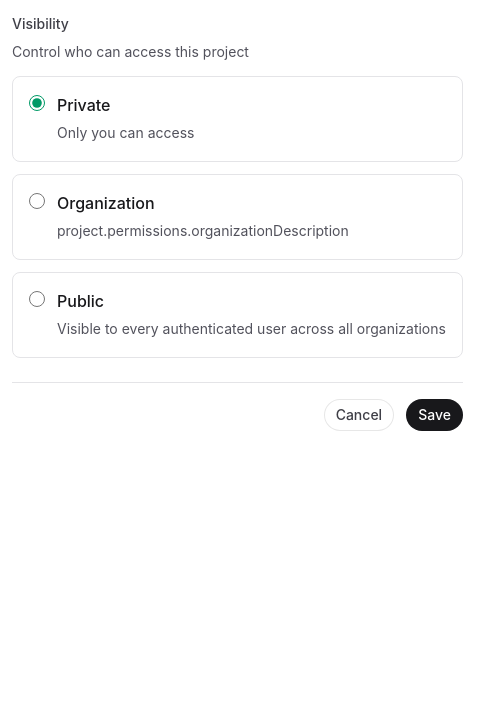
Test: ProjectPermissionsPanel › Cancel › resets visibility on cancel
The width and height of the screenshot is (480, 704).
Click the label with test id "public-option". click: (81, 301)
box: top-left (12, 272), bottom-right (463, 358)
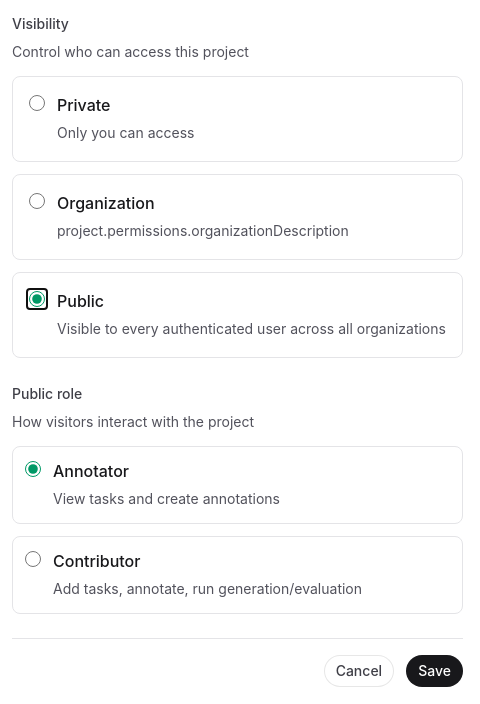
Click the button with test id "cancel-button". click: (359, 671)
box: top-left (324, 655), bottom-right (394, 687)
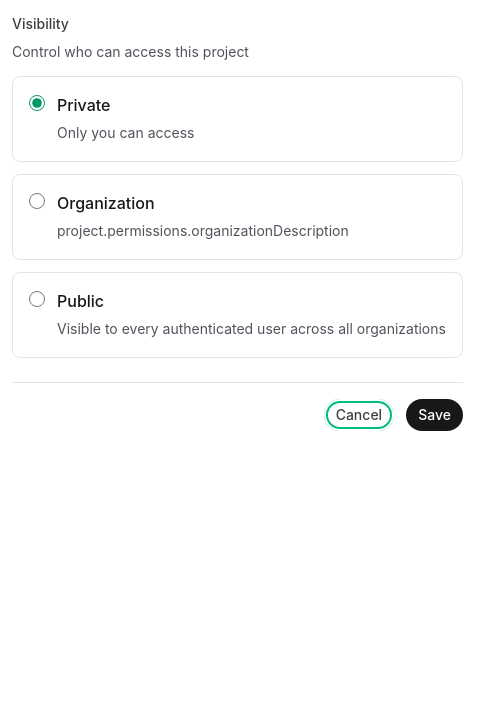
expect the radio button with test id "private-radio" is checked: met, box top-left (29, 95), bottom-right (45, 111)
